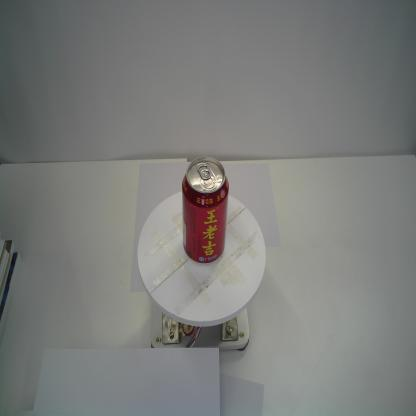Drink: (181, 155, 230, 267)
